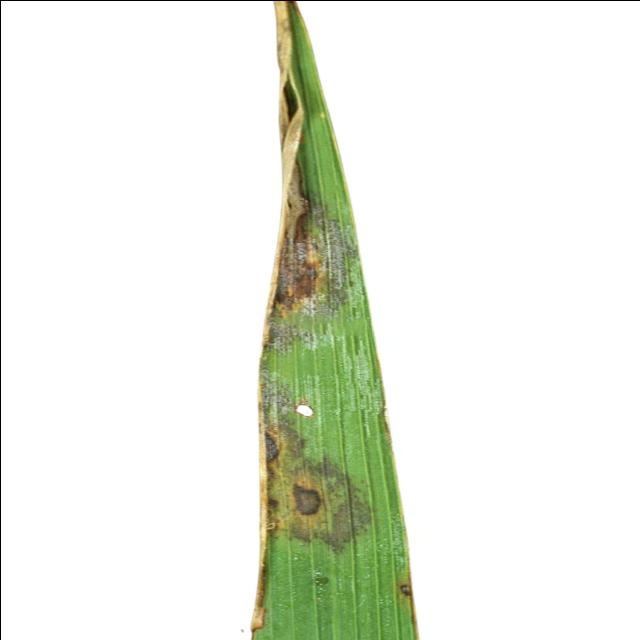Leaf scald: (206, 0, 471, 640)
